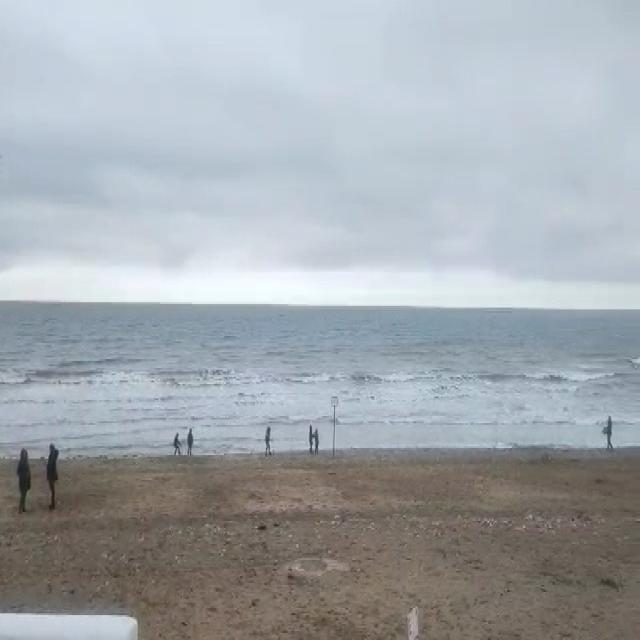person: (41, 439, 64, 516), (15, 440, 34, 519), (597, 410, 616, 456), (263, 425, 277, 460), (170, 432, 183, 461), (187, 422, 196, 461), (305, 421, 313, 457), (312, 424, 319, 459)
